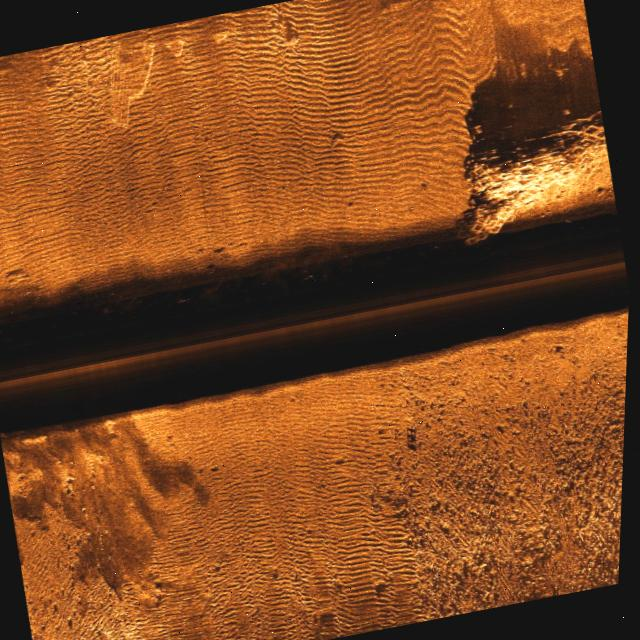artificial reef: (439, 112, 622, 244)
